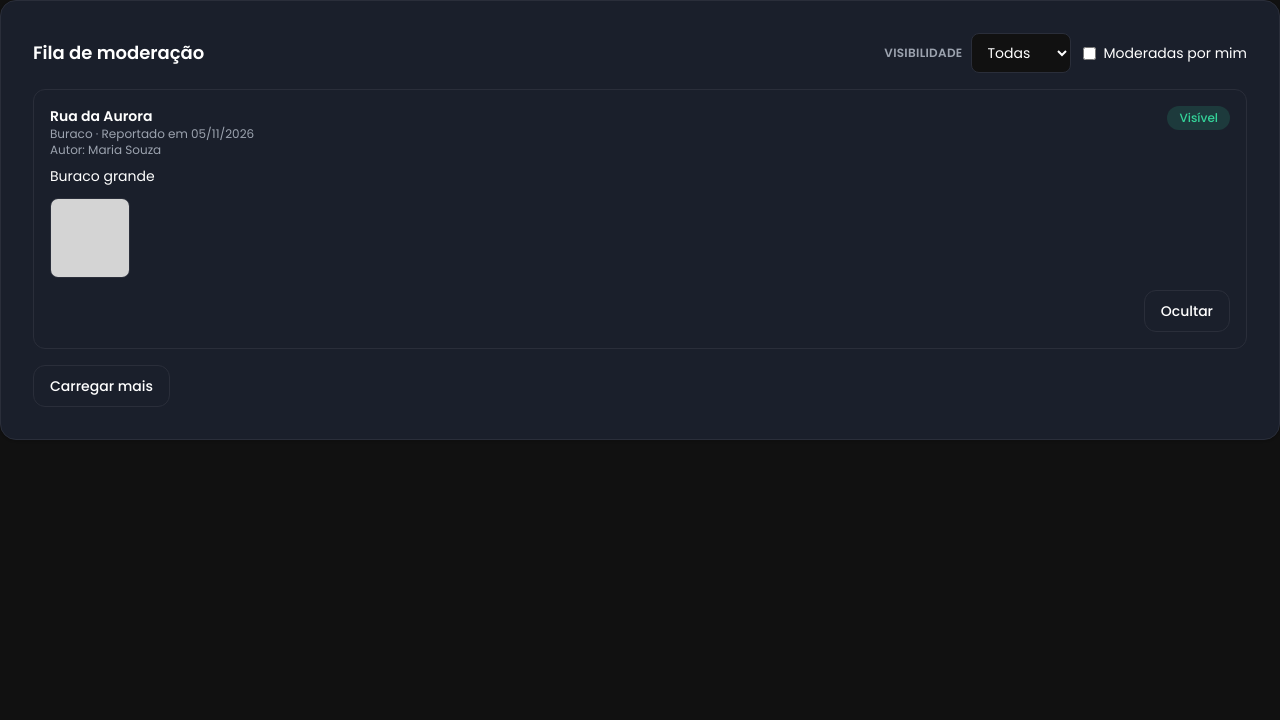
ListaModeracao › Carregar mais busca a próxima página
Expected: the heading "Rua da Aurora" is shown, [50,106,152,126]
Click the button "Carregar mais". click: [101, 386]
box: [33,365,170,407]
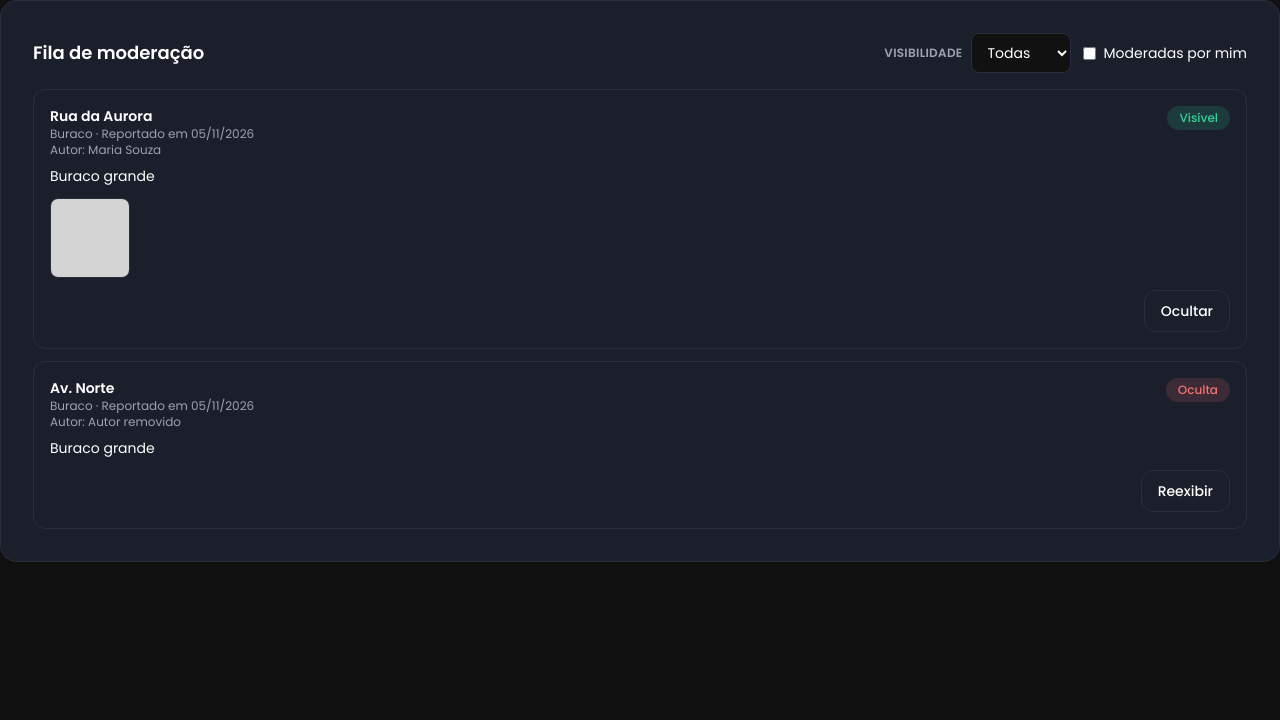
Expected: the heading "Av. Norte" is shown, [50,378,114,398]
Expected: the button "Carregar mais" is gone
